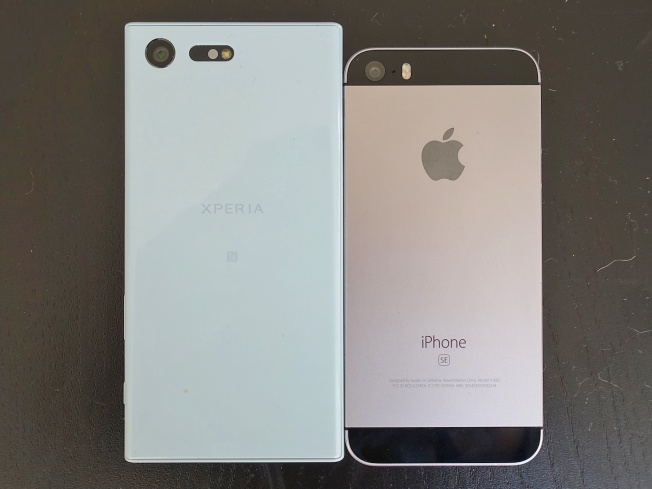apple: (404, 110, 477, 191)
